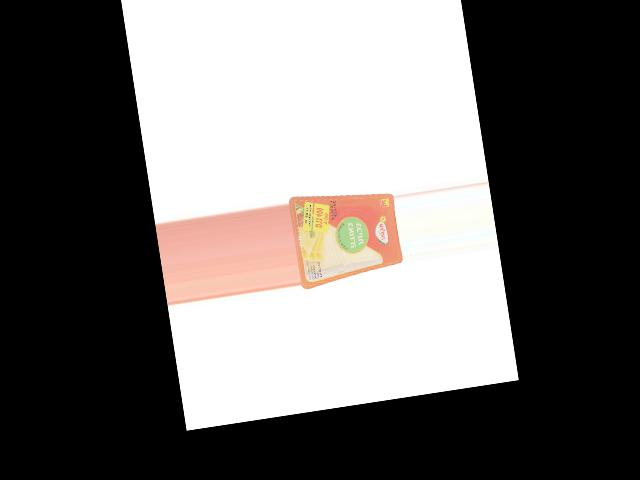cheese: (287, 181, 404, 289)
